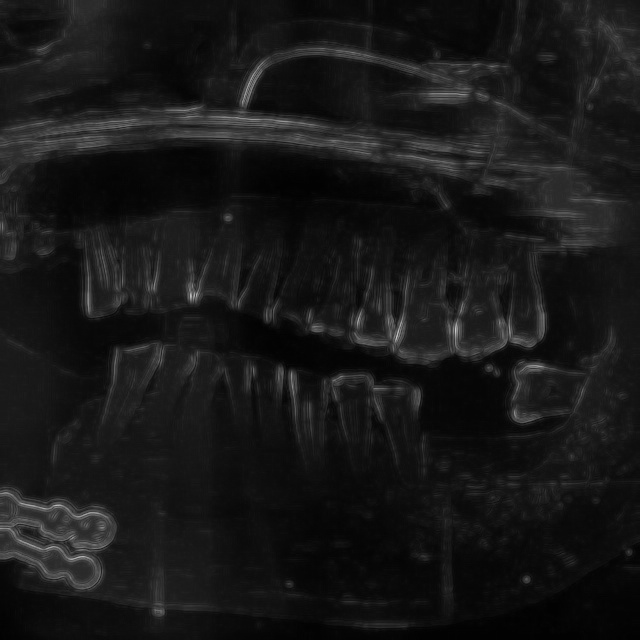cavity: (244, 202, 510, 372), (286, 354, 441, 509)
